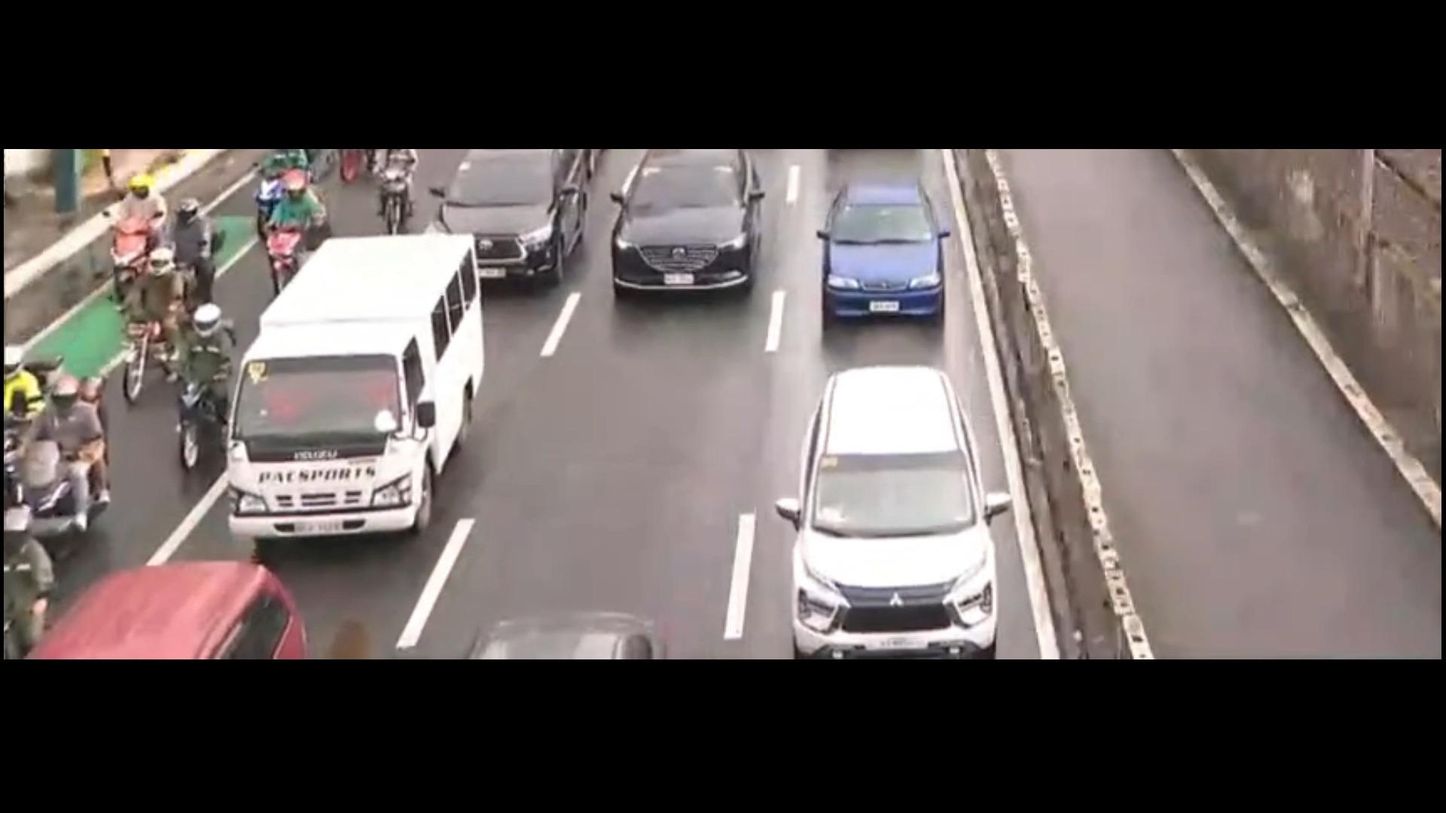Motorcycle: (105, 198, 223, 390), (1, 367, 110, 551), (152, 294, 251, 465), (90, 177, 177, 303), (262, 166, 332, 289), (361, 147, 418, 244)
Multicab: (207, 232, 528, 563)
SUV: (741, 356, 1027, 660), (599, 142, 769, 310), (424, 145, 609, 280)
Sedan: (786, 171, 965, 336)
